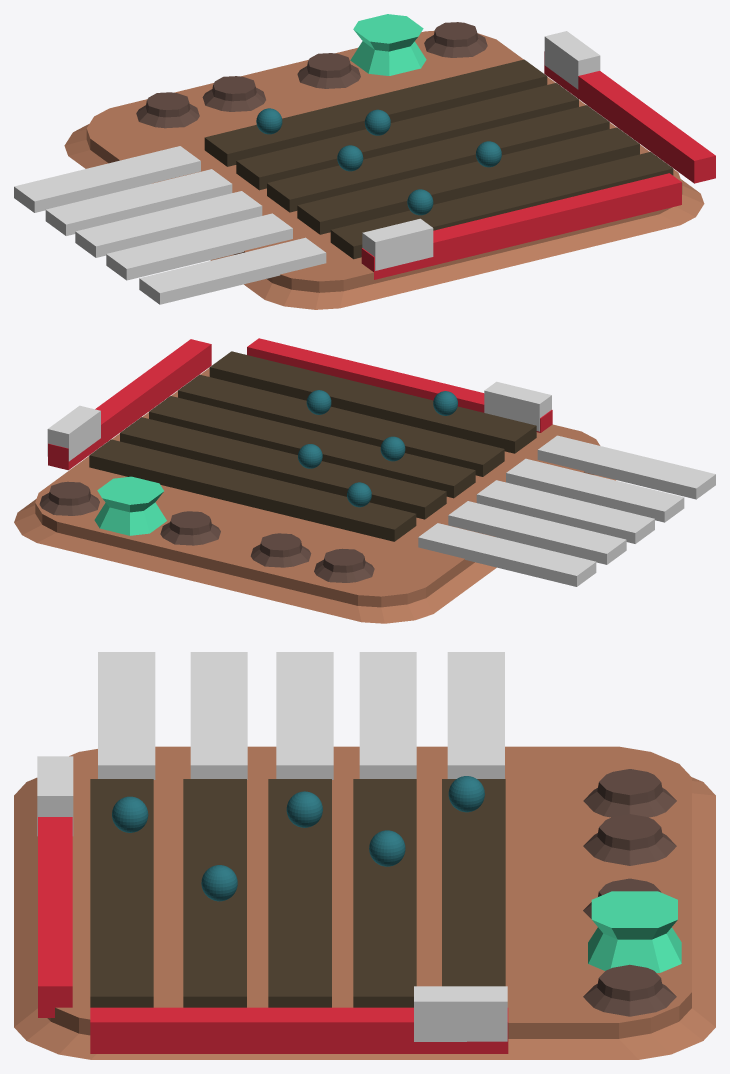
File: TimelineDesign.fbx
3 views of the same model, one above another, from view 1: azimuth 30°, elevation 25°; view 2: azimuth 150°, elevation 25°; view 3: azimuth 270°, elevation 25° (orthographic). The views are drawn at different scales.
Visible parts, largest first — view 1: Timeline, Track3, Track0, ScrollbarBox, Track2, Track1, Track4, ScrollbarBox.001, TimelineTrackOwner.004, TimelineTrackOwner.003, TimelineTrackOwner, TimelineTrackOwner.002 (+13 smaller); view 2: Timeline, Track0, Track4, Track1, Track3, Track2, ScrollbarBox.001, TimelineTrackOwner, TimelineTrackOwner.004, TimelineTrackOwner.001, TimelineTrackOwner.003, TimelineTrackOwner.002 (+13 smaller); view 3: Timeline, ScrollbarBox.001, Track2, Track3, Track4, Track1, Track0, TimelineTrackOwner.004, TimelineTrackOwner.002, TimelineTrackOwner.003, TimelineTrackOwner.001, TimelineTrackOwner (+13 smaller).
Boxes of the visible parts, x1=… form: Timeline: x1=64, y1=30, x2=704, y2=309; Track3: x1=297, y1=127, x2=639, y2=234; Track0: x1=204, y1=59, x2=547, y2=166; ScrollbarBox: x1=361, y1=173, x2=681, y2=279; Track2: x1=267, y1=105, x2=609, y2=212; Track1: x1=236, y1=83, x2=578, y2=190; Track4: x1=330, y1=152, x2=673, y2=259; ScrollbarBox.001: x1=544, y1=51, x2=715, y2=183; TimelineTrackOwner.004: x1=139, y1=237, x2=326, y2=304; TimelineTrackOwner.003: x1=106, y1=213, x2=292, y2=280; TimelineTrackOwner: x1=14, y1=146, x2=200, y2=212; TimelineTrackOwner.002: x1=75, y1=191, x2=262, y2=257; Timeline: x1=14, y1=368, x2=616, y2=623; Track0: x1=89, y1=439, x2=416, y2=541; Track4: x1=209, y1=351, x2=536, y2=453; Track1: x1=120, y1=417, x2=446, y2=519; Track3: x1=178, y1=374, x2=504, y2=476; Track2: x1=149, y1=396, x2=475, y2=498; ScrollbarBox.001: x1=48, y1=339, x2=211, y2=470; TimelineTrackOwner: x1=418, y1=523, x2=596, y2=586; TimelineTrackOwner.004: x1=537, y1=435, x2=715, y2=499; TimelineTrackOwner.001: x1=448, y1=501, x2=626, y2=564; TimelineTrackOwner.003: x1=506, y1=458, x2=684, y2=522; TimelineTrackOwner.002: x1=476, y1=480, x2=654, y2=543; Timeline: x1=14, y1=746, x2=715, y2=1059; ScrollbarBox.001: x1=90, y1=1007, x2=508, y2=1053; Track2: x1=268, y1=779, x2=331, y2=1007; Track3: x1=183, y1=779, x2=246, y2=1007; Track4: x1=90, y1=779, x2=153, y2=1007; Track1: x1=353, y1=779, x2=416, y2=1007; Track0: x1=442, y1=779, x2=505, y2=986; TimelineTrackOwner.004: x1=98, y1=652, x2=155, y2=779; TimelineTrackOwner.002: x1=276, y1=652, x2=333, y2=779; TimelineTrackOwner.003: x1=190, y1=652, x2=247, y2=779; TimelineTrackOwner.001: x1=359, y1=652, x2=416, y2=778; TimelineTrackOwner: x1=447, y1=652, x2=504, y2=778.
Size of the model in its own units: 1906 by 190 by 1500.
